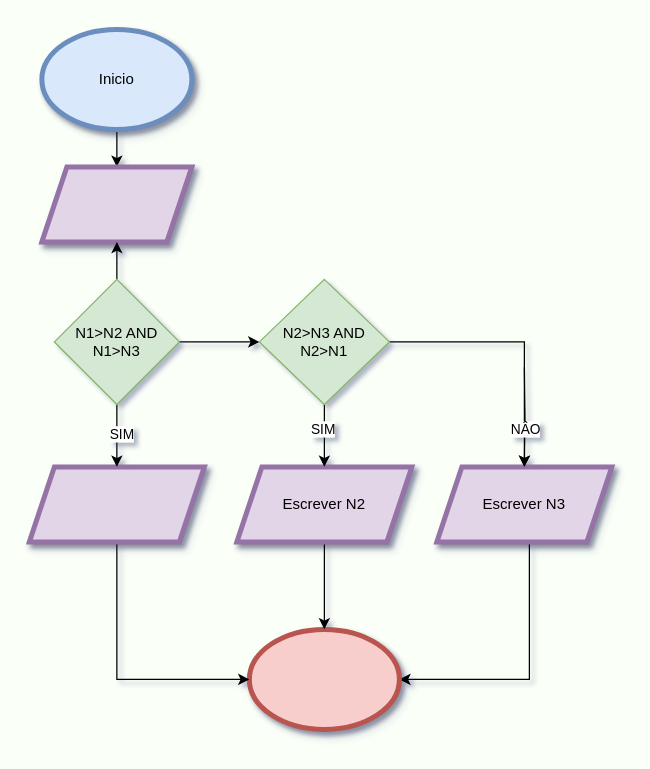
This 650x769 diagram has some shape labels left out. Here are the shapes that lost their labels. From the top down, the centre of each, then its label:
At [117,205]: "LER N1, N2, N3".
At [117,505]: "Escrever N1".
At [325,680]: "Fim".
